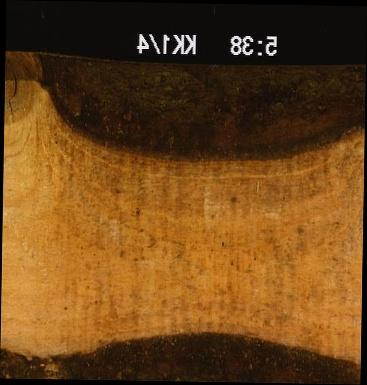sound_knot: (3, 58, 33, 122)
wave: (3, 51, 364, 161), (0, 329, 360, 381)
